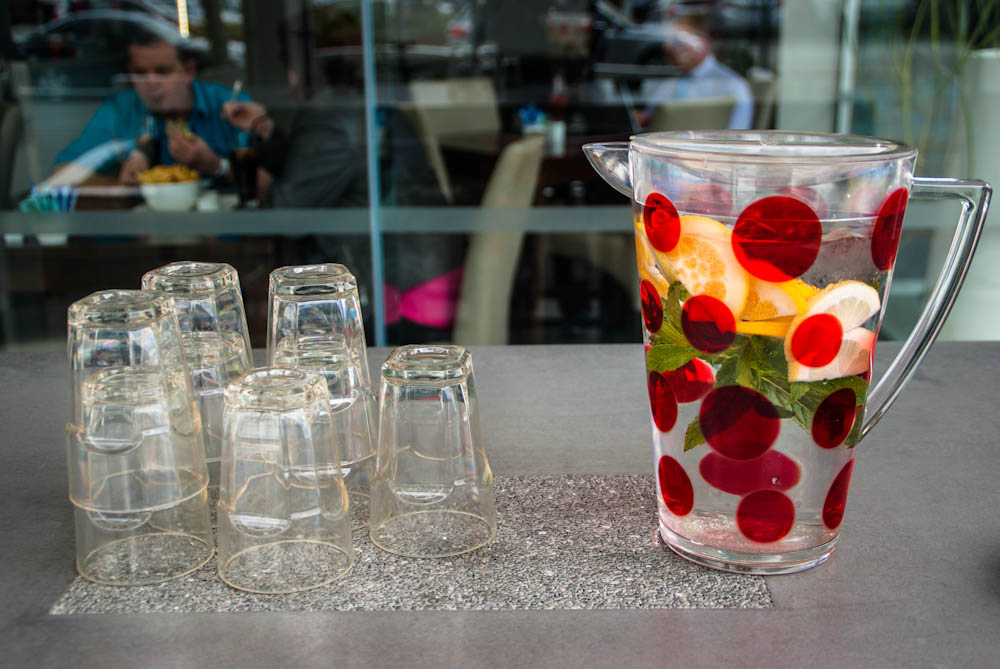glass of water: (627, 191, 868, 583), (71, 301, 213, 568), (378, 347, 498, 563), (267, 261, 359, 526), (233, 379, 345, 576)
